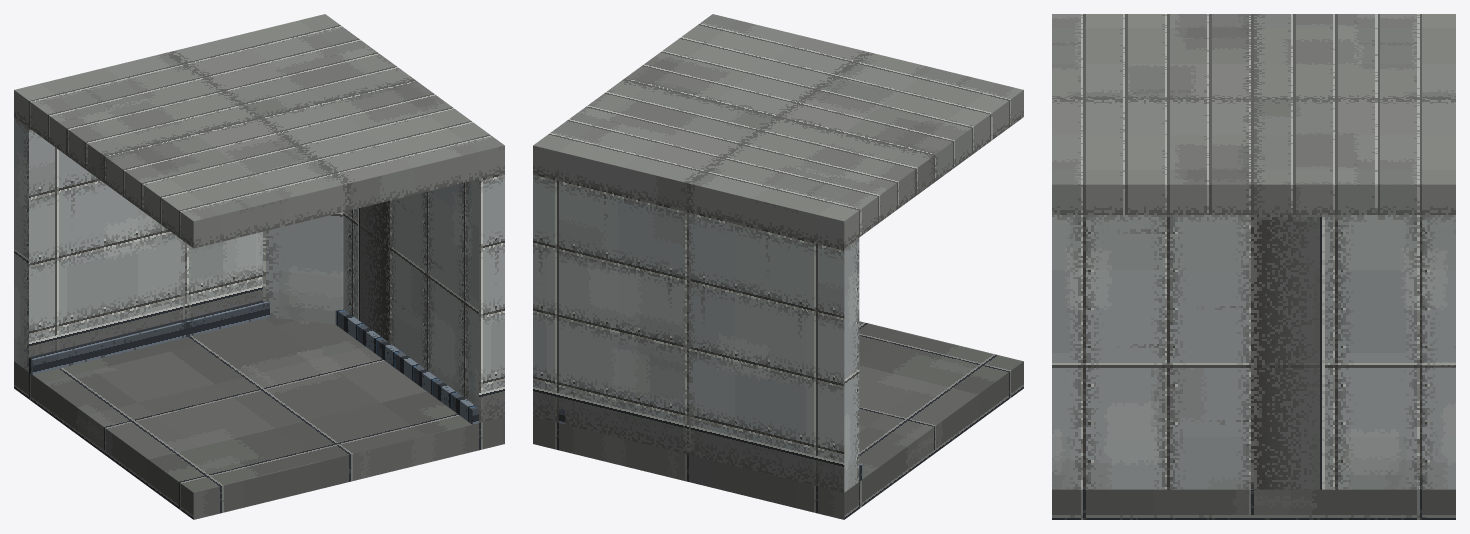
File: arch_corner_right.glb
The picture shows the model from 3 angles, left to right: view 1: azimuth 30°, elevation 25°; view 2: azimuth 150°, elevation 25°; view 3: azimuth 270°, elevation 25°; orthographic projection. The views are drawn at different scales.
Visible parts, largest first — view 1: arch_corner_right; view 2: arch_corner_right; view 3: arch_corner_right.
Part boxes in pixels (box(x1,y1,x2,y2)): arch_corner_right: box(14, 14, 504, 519); arch_corner_right: box(533, 14, 1023, 519); arch_corner_right: box(1052, 14, 1455, 519).
Size of the model in its own units: 4.8 by 4.4 by 4.8.
7 materials, 7 textured.
